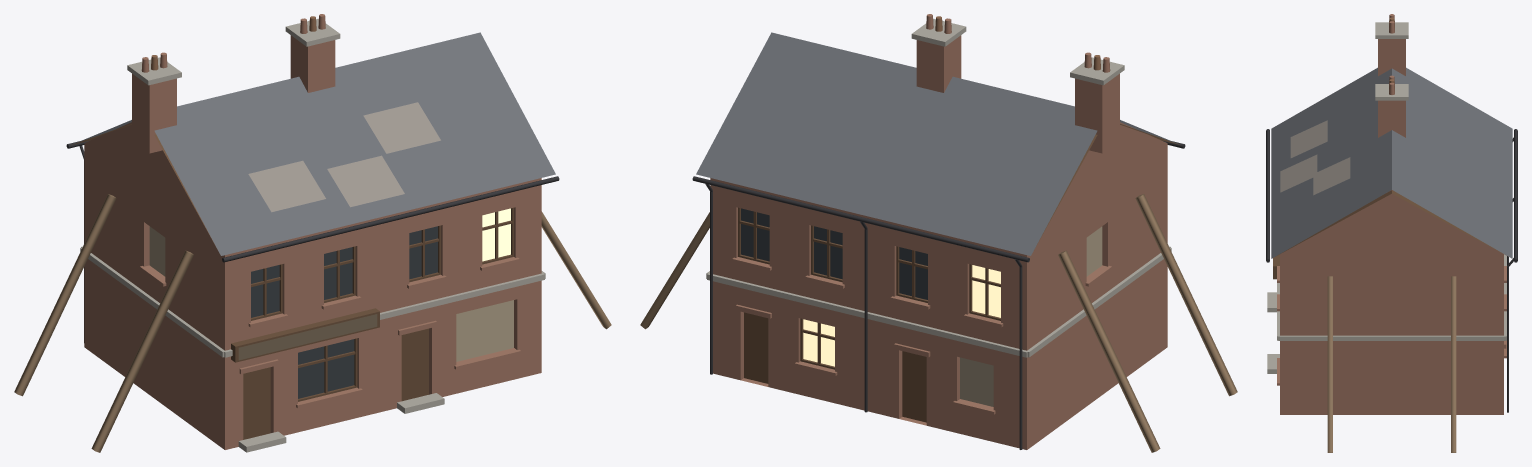
Rendered from pub.glb.
The picture shows the model from 3 angles, left to right: view 1: azimuth 30°, elevation 25°; view 2: azimuth 150°, elevation 25°; view 3: azimuth 270°, elevation 25°; orthographic projection. The views are drawn at different scales.
Parts seen in each view (by area): view 1: pub; view 2: pub; view 3: pub.
Boxes of the visible parts, box(x1,y1,x2,y2) form: pub: box(14, 14, 611, 452); pub: box(640, 14, 1237, 452); pub: box(1266, 14, 1517, 452).
Bounding box in the file's own units: 16.97 × 10.8 × 8.98.
